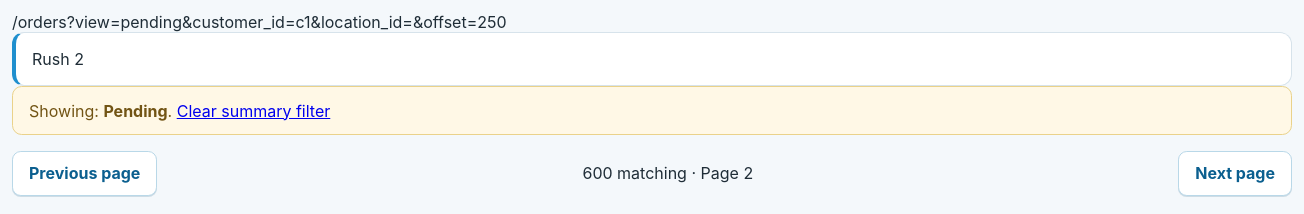
Test: pages and clears a summary view while retaining the customer and store scope
Click the button "Next page" at x=1235, y=173, box [1178, 151, 1292, 196]
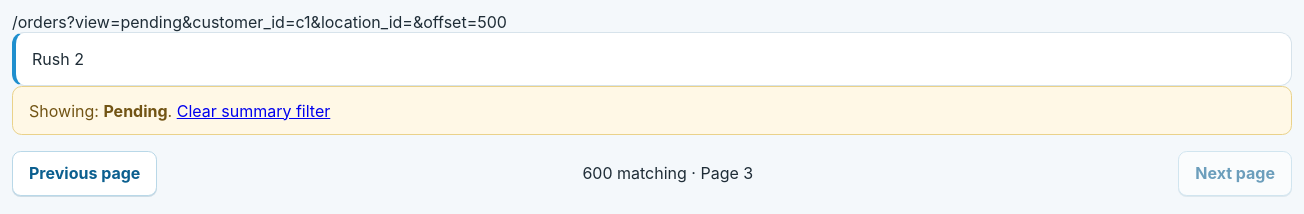
Result: the text named "Route" shows "offset=500" at [67, 12, 507, 32]
Result: the button "Next page" is disabled at [1178, 151, 1292, 196]
Click the link "Clear summary filter" at x=254, y=111, box [177, 101, 330, 121]
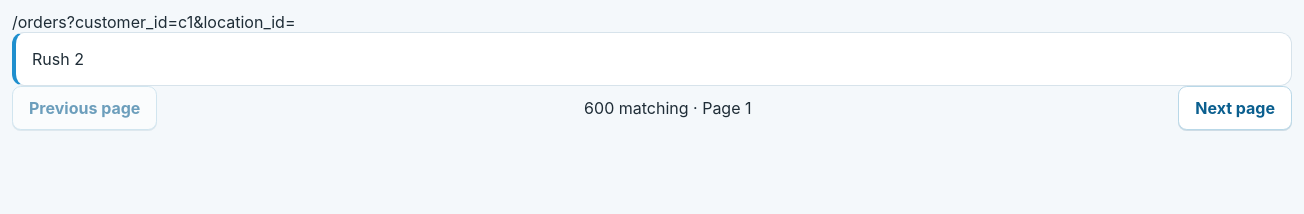
Result: the text named "Route" reads "/orders?customer_id=c1&location_id=" at [12, 12, 296, 32]
Result: the text "Showing:" is gone
